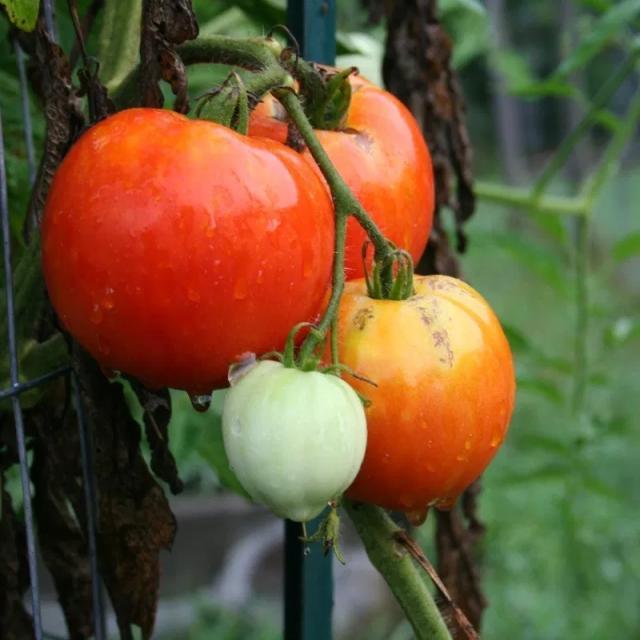level 2: (221, 362, 368, 522)
level 5: (302, 269, 519, 513)
level 6: (44, 104, 333, 393), (227, 61, 440, 316)
